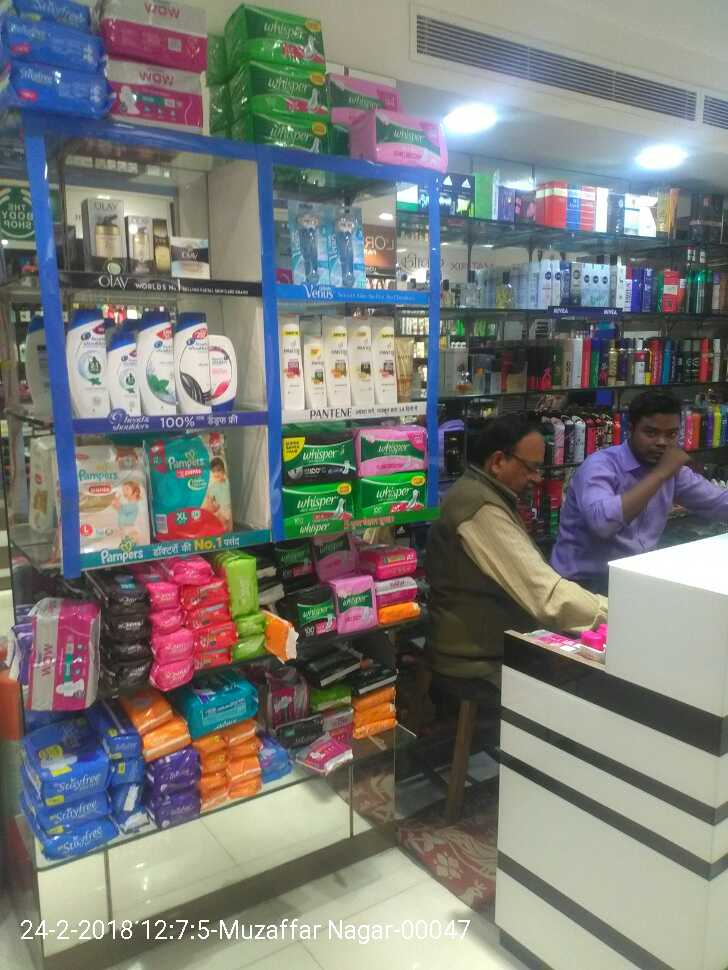venus: (291, 200, 330, 284), (330, 207, 362, 284)
